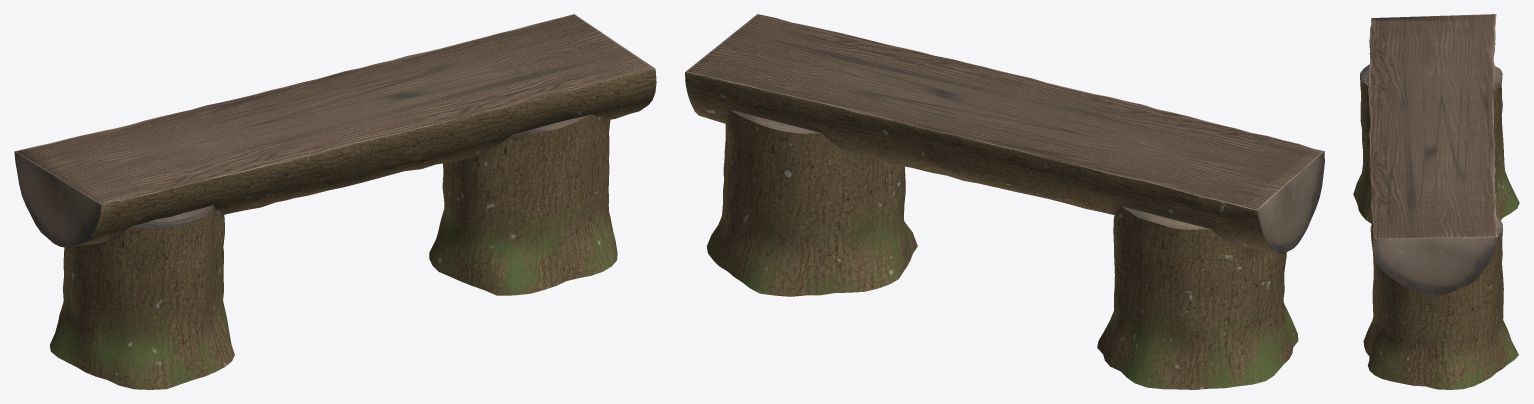
File: corner_camp_bench.glb
3 views of the same model, side by side, from view 1: azimuth 30°, elevation 25°; view 2: azimuth 150°, elevation 25°; view 3: azimuth 270°, elevation 25° (orthographic). The views are drawn at different scales.
Visible parts, largest first — view 1: Bench; view 2: Bench; view 3: Bench.
Part boxes in pixels (box(x1,y1,x2,y2)): Bench: box(14, 14, 656, 389); Bench: box(685, 14, 1324, 389); Bench: box(1353, 14, 1519, 389).
Bounding box in the file's own units: 1.42 × 0.454 × 0.4437.
1 material, 1 textured.
